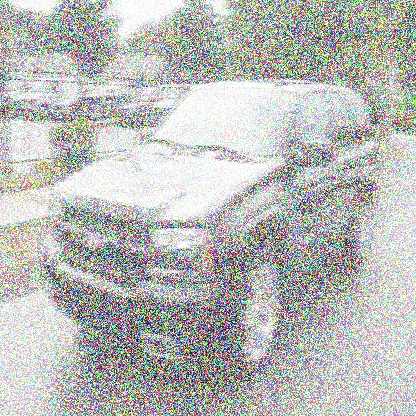Vehicle: (38, 75, 382, 363)
